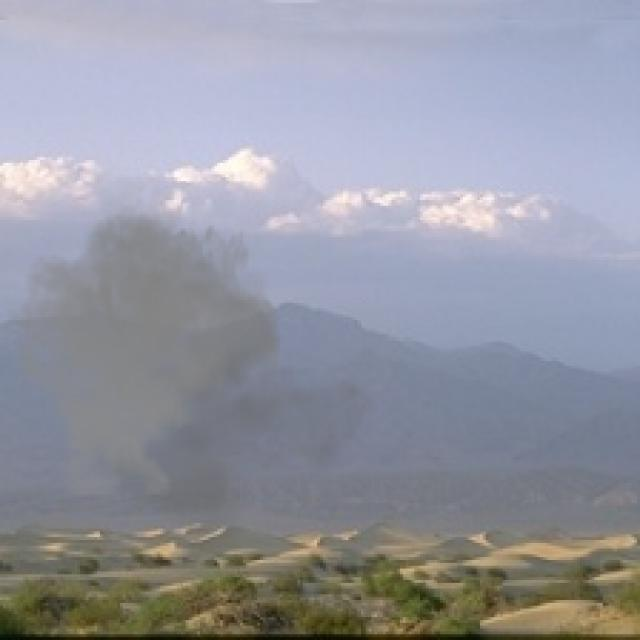smoke: (6, 189, 377, 537)
